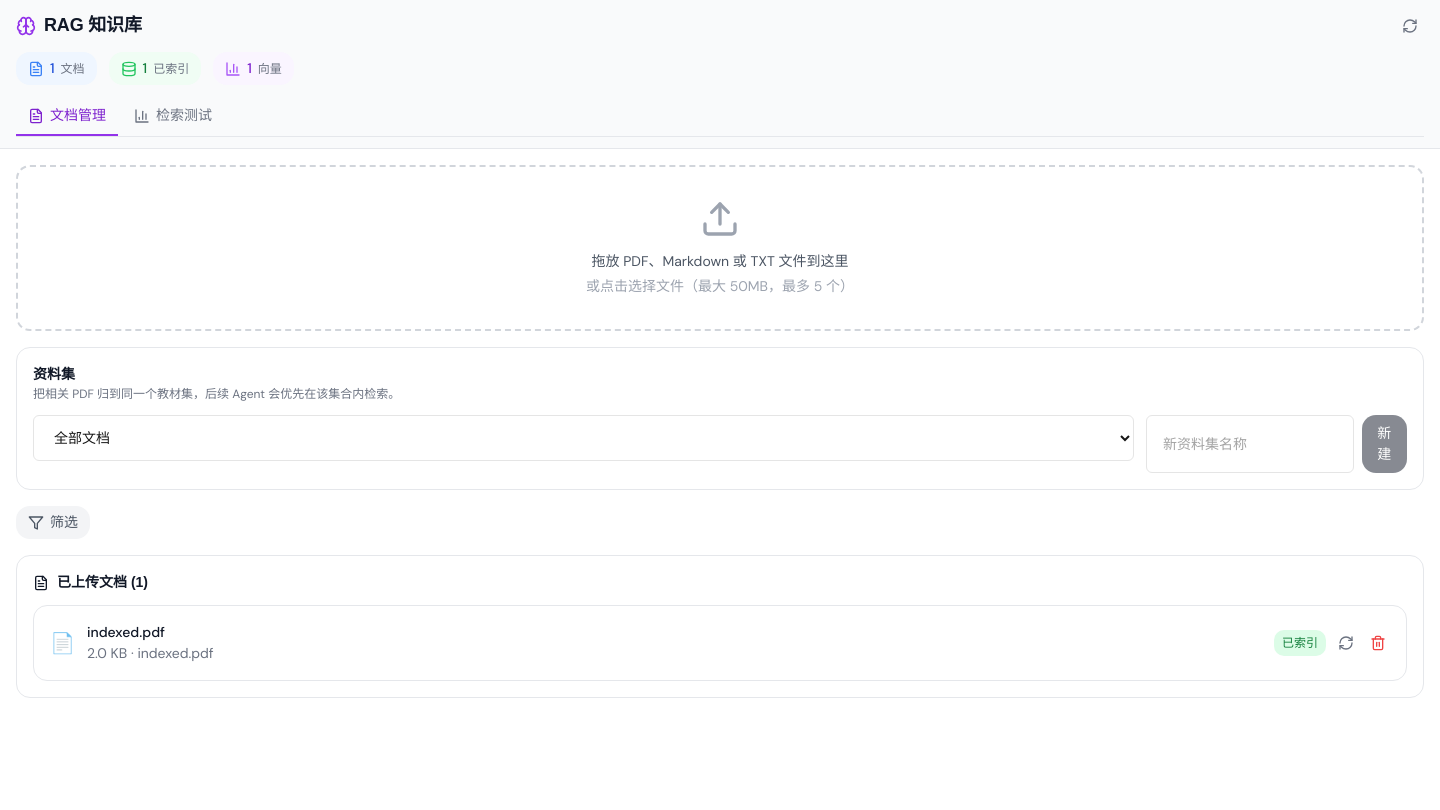
RagSection searches documents and opens detail from results
This screenshot has width=1440, height=810.
Click the button "检索测试". click: (173,116)
box: [122, 97, 224, 136]
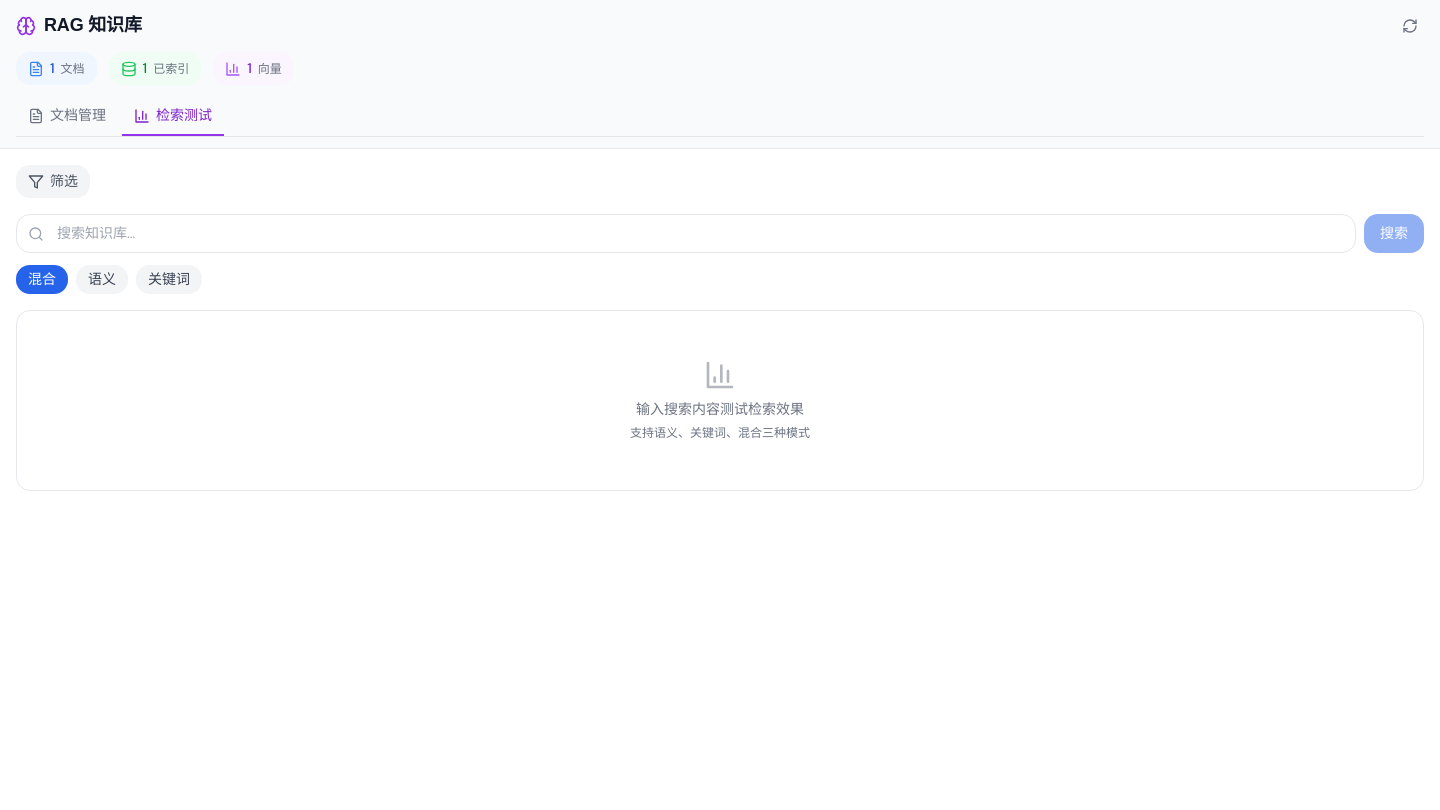
Type "向量检索" into the field with placeholder "搜索知识库...". click: (686,234)
box: [16, 214, 1356, 253]
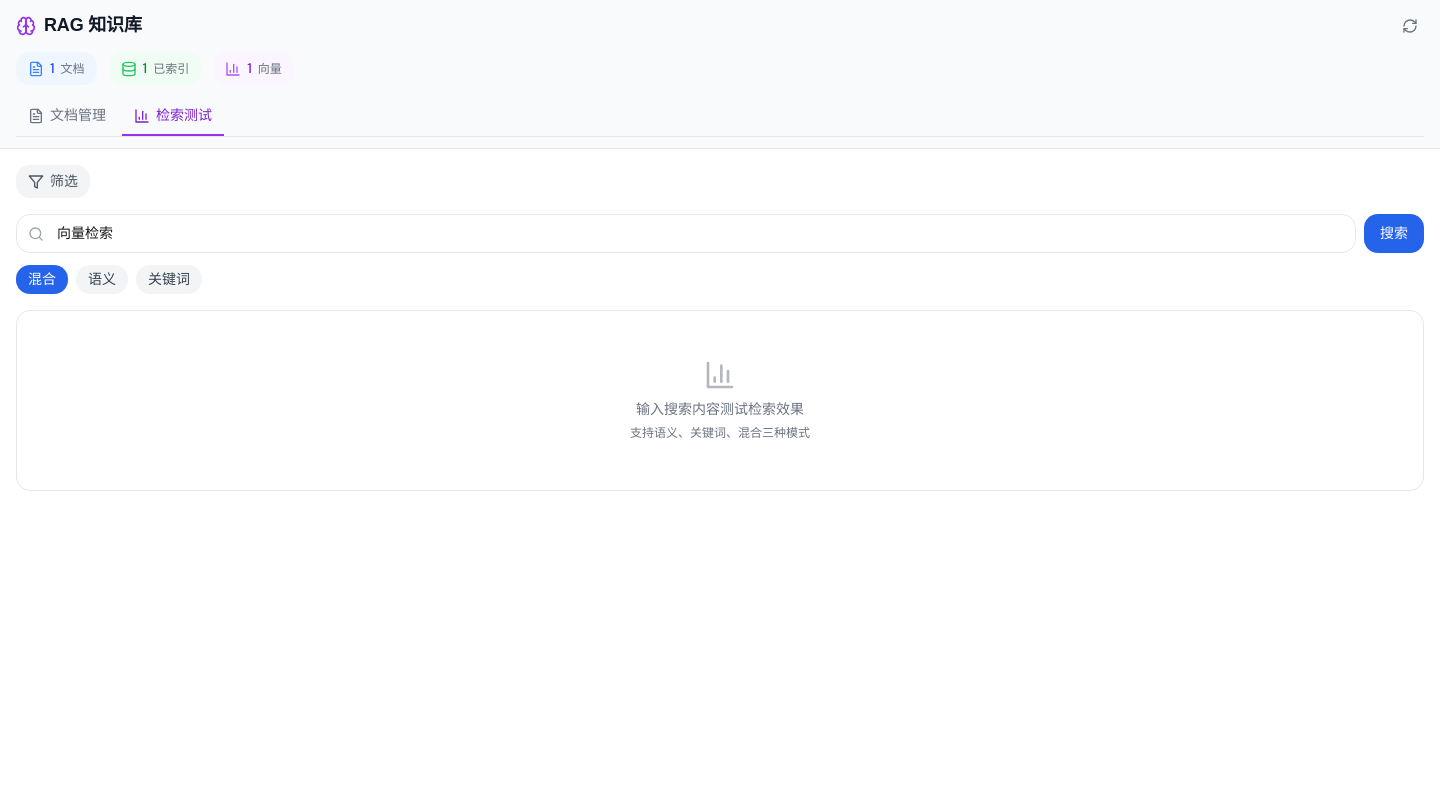
Click the button "语义". click: (102,280)
box: [76, 265, 128, 294]
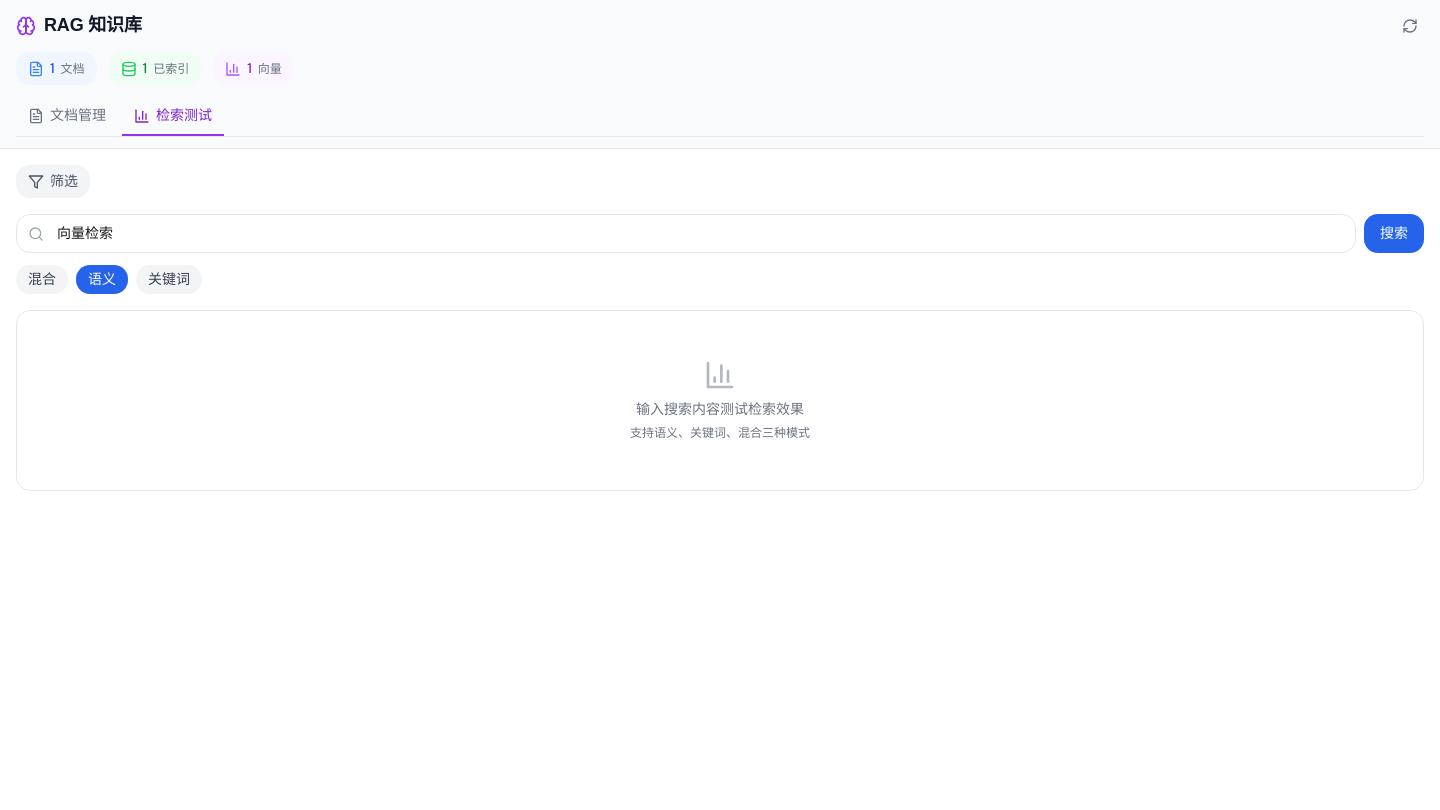
Click the button "搜索". click: (1394,234)
box: [1364, 214, 1424, 253]
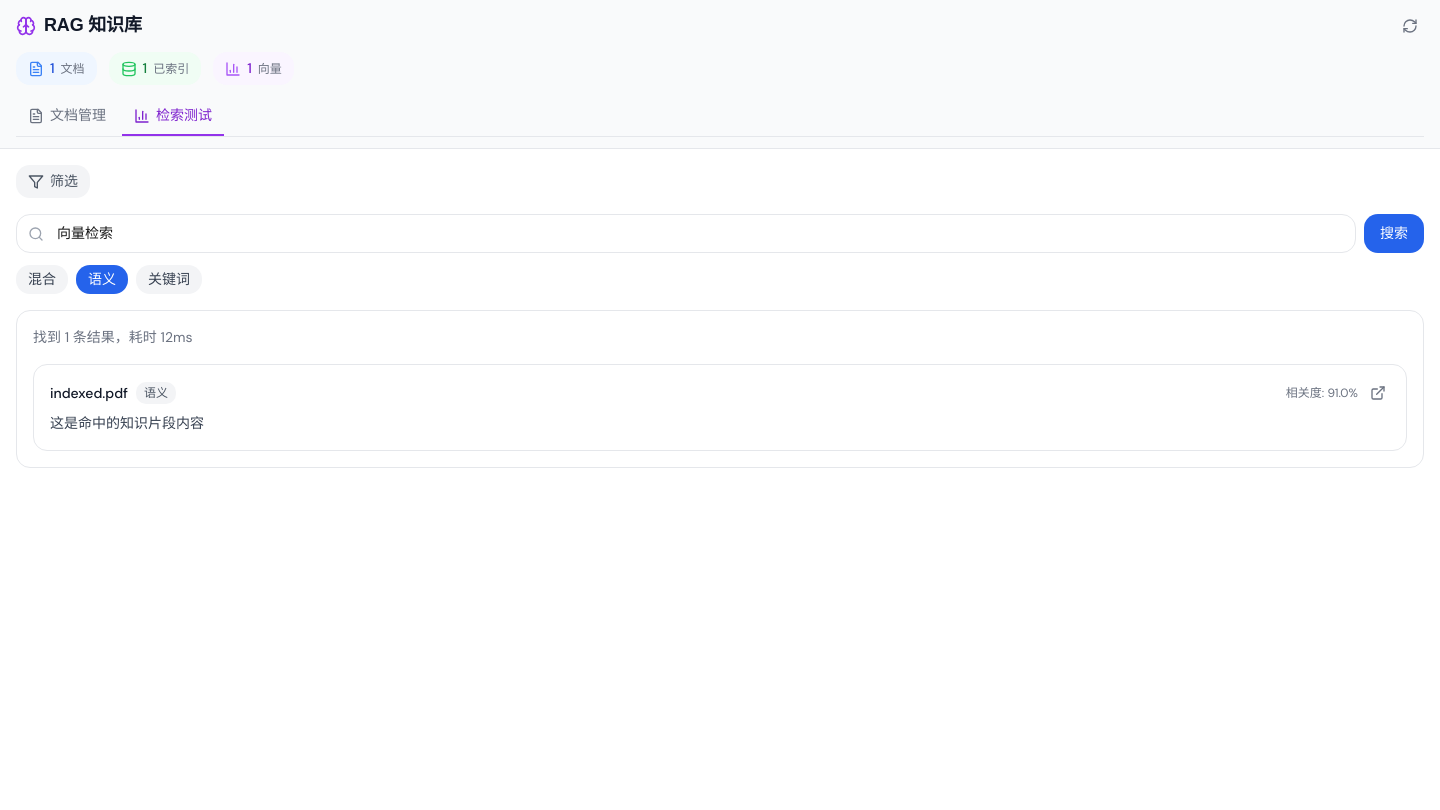
Check: the text "找到 1 条结果，耗时 12ms" is shown, box [33, 328, 192, 346]
Check: the text "这是命中的知识片段内容" is shown, box [50, 414, 204, 432]
Click the button titled "查看文档". click: (1378,393)
box: [1366, 381, 1390, 405]
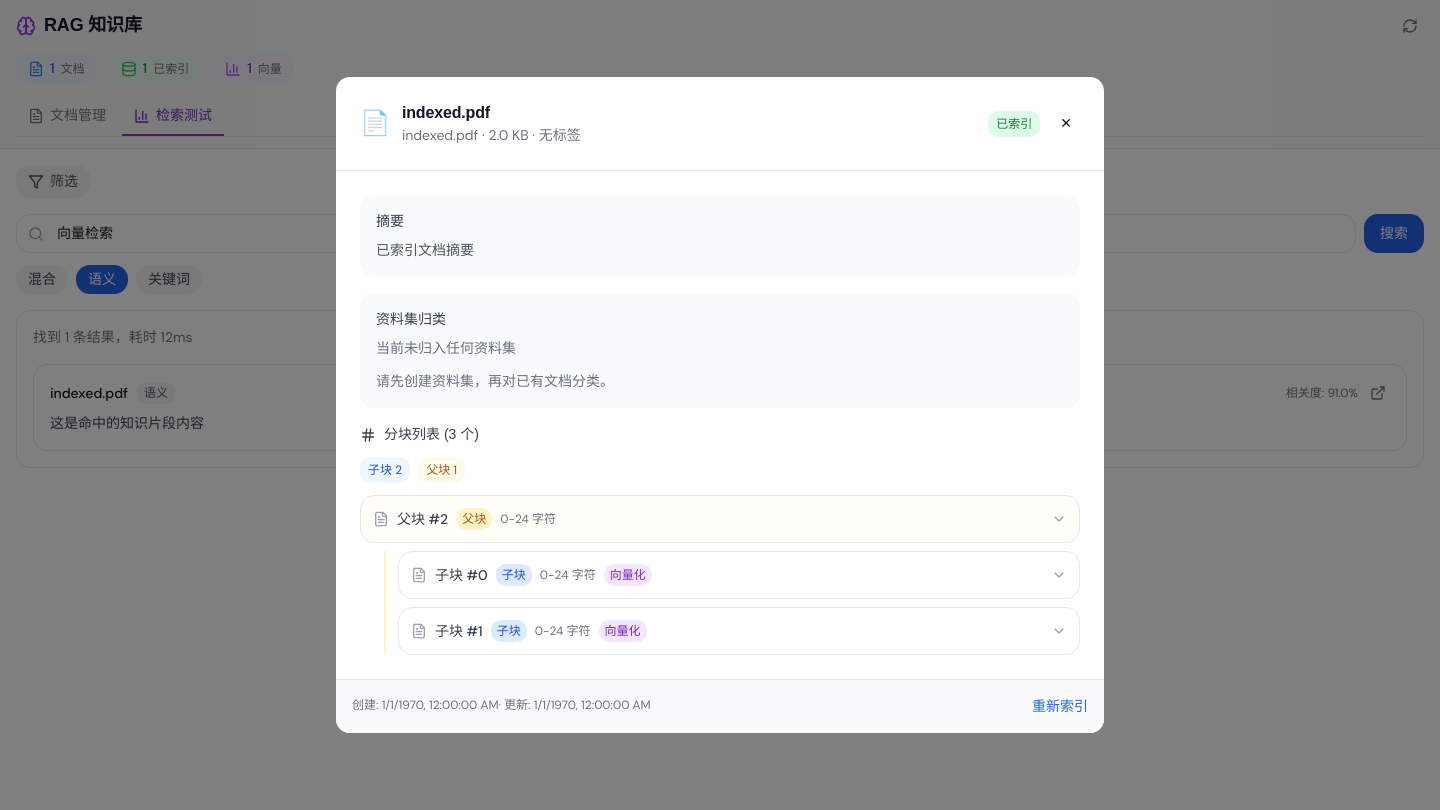
Check: the text "indexed.pdf" is shown, box [50, 382, 128, 404]
Check: the heading "分块列表 (3 个)" is shown, box [360, 426, 479, 442]
Check: the text "已索引文档摘要" is shown, box [376, 241, 474, 259]
